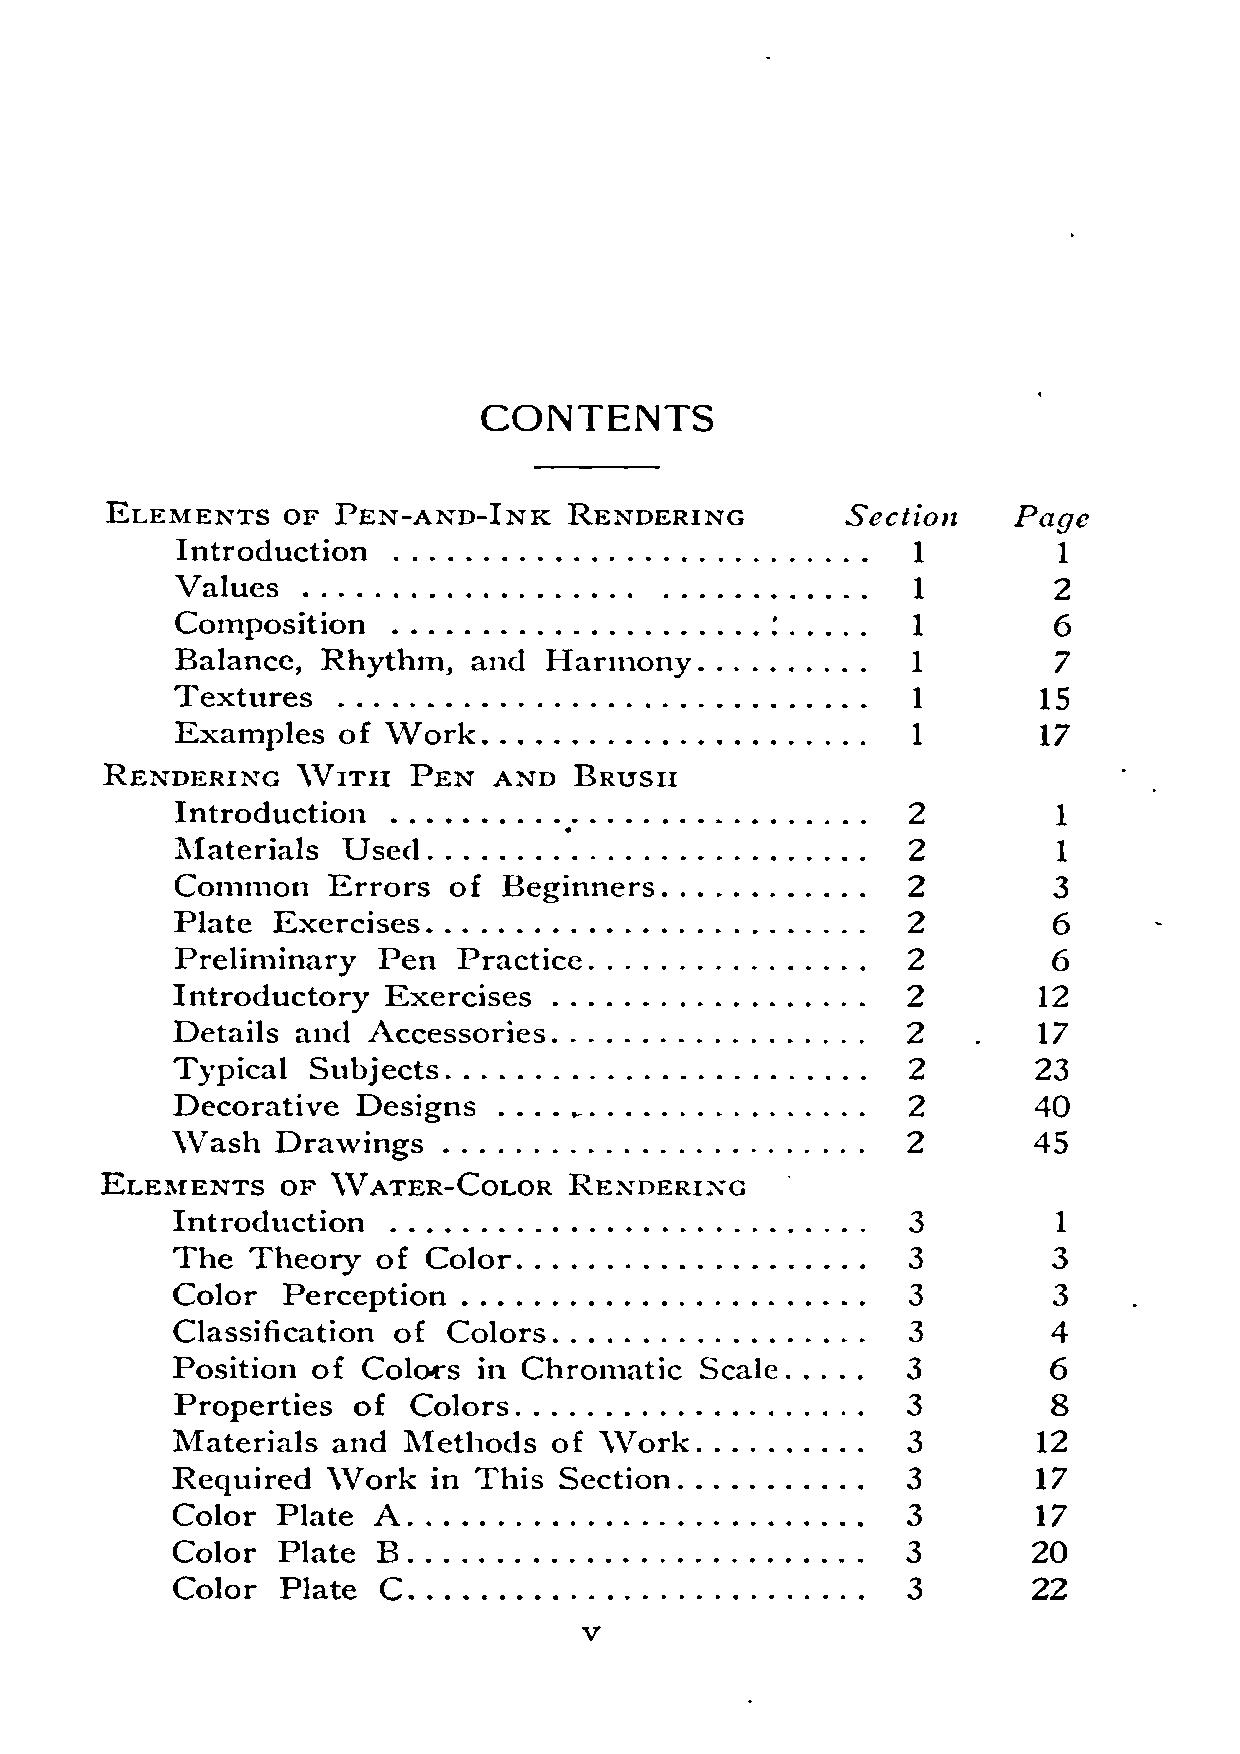TOC_chapter: (102, 1164, 753, 1198), (99, 758, 682, 793), (101, 497, 754, 527), (174, 640, 692, 679), (169, 1351, 778, 1382), (170, 1461, 676, 1492), (168, 870, 658, 900), (170, 1427, 694, 1455), (170, 978, 535, 1012), (172, 943, 582, 973), (168, 1314, 546, 1345), (166, 1240, 514, 1274), (170, 1388, 507, 1421), (170, 1017, 548, 1047), (173, 717, 483, 750), (170, 1094, 480, 1123), (170, 1052, 440, 1086), (170, 1127, 425, 1161), (169, 1280, 446, 1310), (172, 832, 431, 862), (170, 906, 423, 935), (168, 1571, 407, 1602), (164, 533, 373, 568), (170, 1499, 401, 1530), (166, 1537, 401, 1566), (169, 794, 370, 825), (166, 1204, 360, 1235), (166, 609, 368, 637), (169, 683, 311, 709), (166, 570, 282, 599)
TOC_pagenumber: (1033, 1055, 1074, 1088), (1029, 1574, 1071, 1602), (1033, 1126, 1070, 1158), (1029, 1538, 1075, 1563), (1033, 1094, 1075, 1119), (1037, 982, 1075, 1009), (1036, 683, 1075, 709), (1032, 1500, 1067, 1529), (1037, 1017, 1071, 1045), (1033, 1428, 1068, 1455), (1037, 721, 1072, 746), (1031, 1464, 1066, 1488), (1045, 1206, 1071, 1233), (1049, 570, 1074, 599), (1048, 906, 1072, 934), (1048, 1389, 1072, 1417), (1052, 939, 1072, 972), (1055, 612, 1076, 641), (1045, 1355, 1071, 1380), (1051, 1319, 1072, 1346), (1049, 646, 1072, 670), (1055, 539, 1076, 564), (1052, 837, 1074, 862), (1051, 1245, 1070, 1270), (1052, 1279, 1067, 1308), (1053, 801, 1070, 828), (1053, 874, 1070, 899)
chapter: (474, 399, 715, 436)
